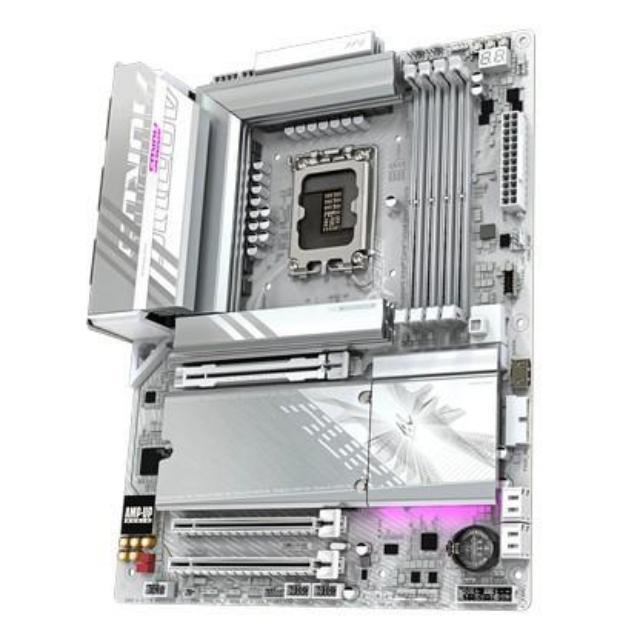Mainboard: (77, 19, 548, 614)
